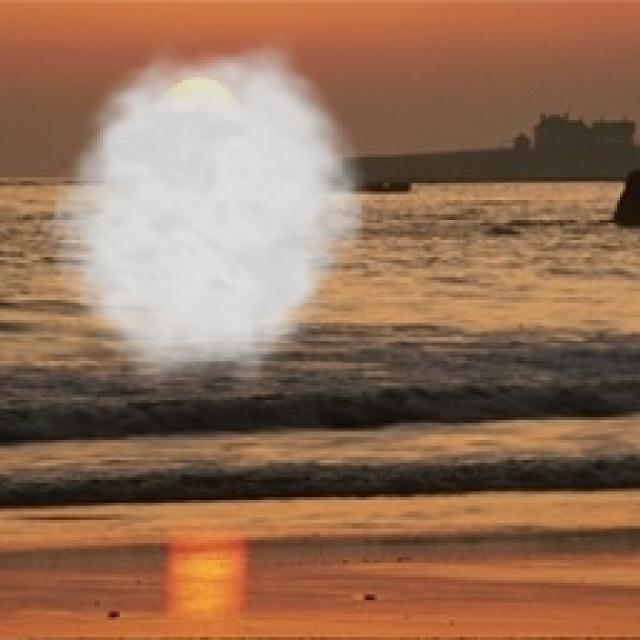smoke: (34, 31, 377, 388)
